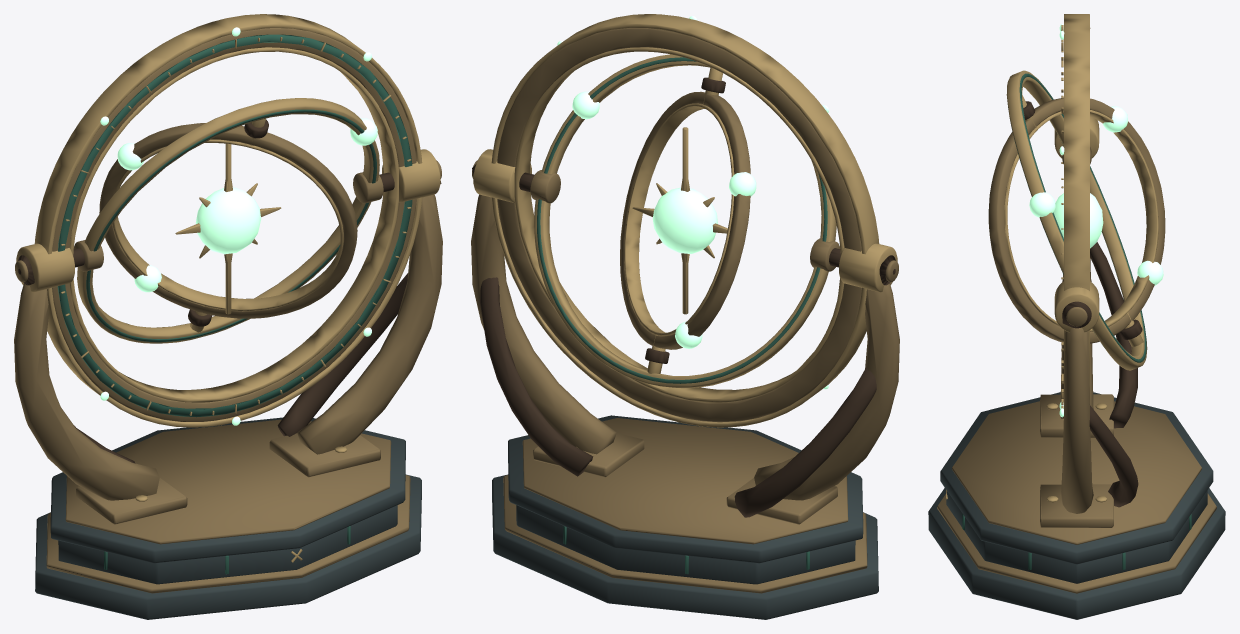
File: orrery.glb
3 views of the same model, side by side, from view 1: azimuth 30°, elevation 25°; view 2: azimuth 150°, elevation 25°; view 3: azimuth 270°, elevation 25° (orthographic). The views are drawn at different scales.
Parts seen in each view (by area): view 1: orrery; view 2: orrery; view 3: orrery.
Boxes of the visible parts, x1=… form: orrery: x1=14, y1=14, x2=442, y2=619; orrery: x1=471, y1=14, x2=899, y2=619; orrery: x1=928, y1=14, x2=1225, y2=619.
Size of the model in its own units: 4.62 by 5.44 by 2.93.
